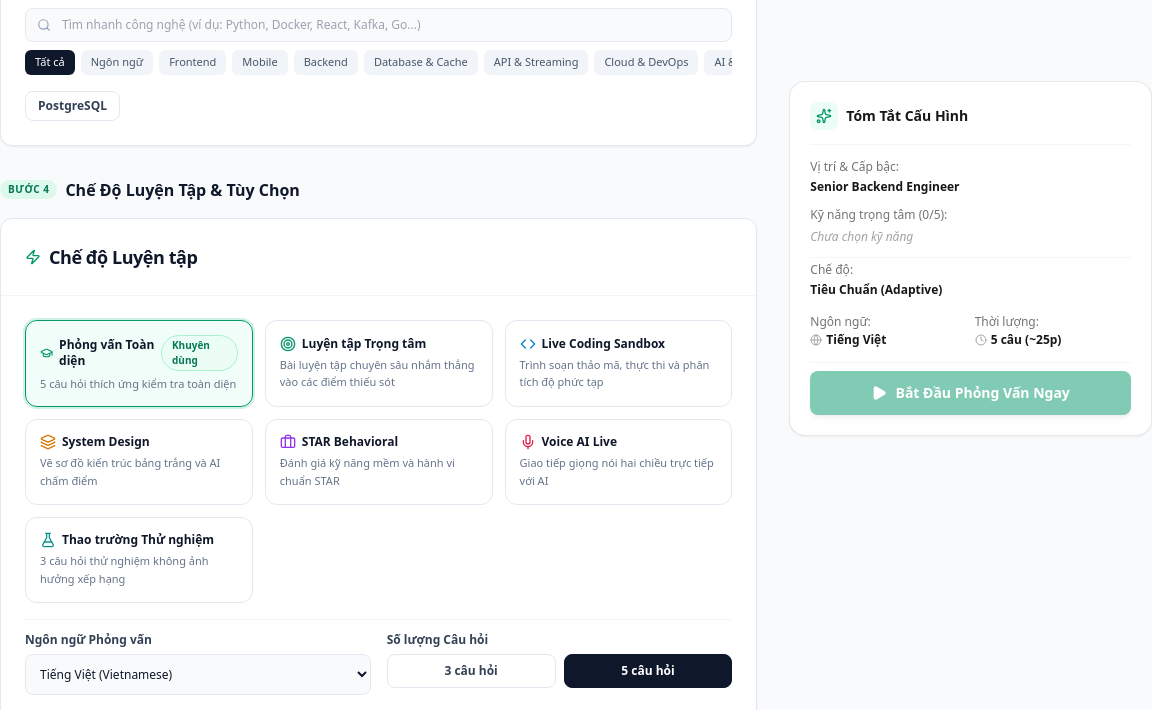
Scenario: SetupInterviewPage Modes (Epic 6) › switches to focused remediation mode and shows competency picker and turn counts
This screenshot has width=1152, height=710.
(page scrolled)
What coordinates should you click on to do the following:
click the button that starts with "Luyện tập Trọng tâm"
I would click on:
 (379, 363)
Its box is [265,320,493,407].
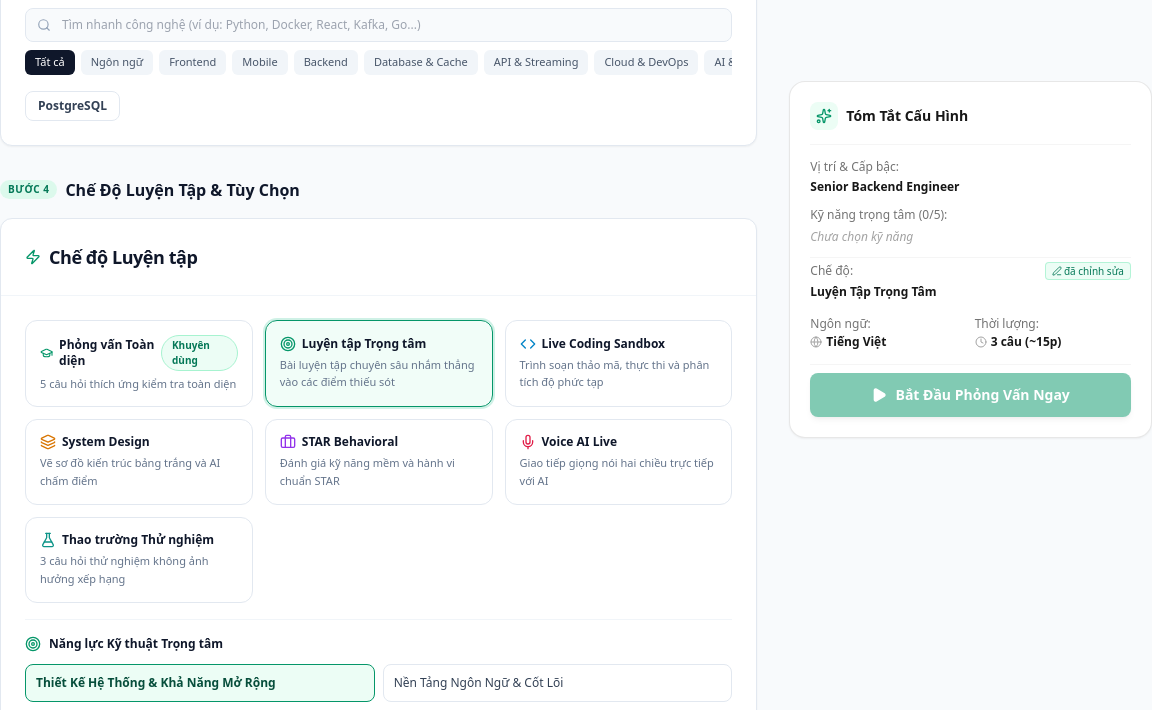
expect the button that starts with "Thao trường Thử nghiệm" is shown: met, box [25,517,253,603]
expect the heading "Năng lực Kỹ thuật Trọng tâm" is shown: met, box [49,636,223,652]
expect the button "Thiết Kế Hệ Thống & Khả Năng Mở Rộng" is shown: met, box [25,664,375,702]
